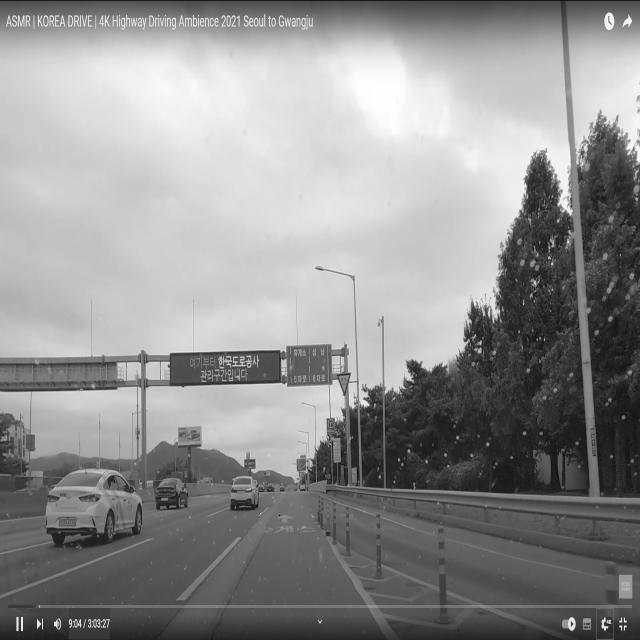forward: (245, 512, 324, 528)
